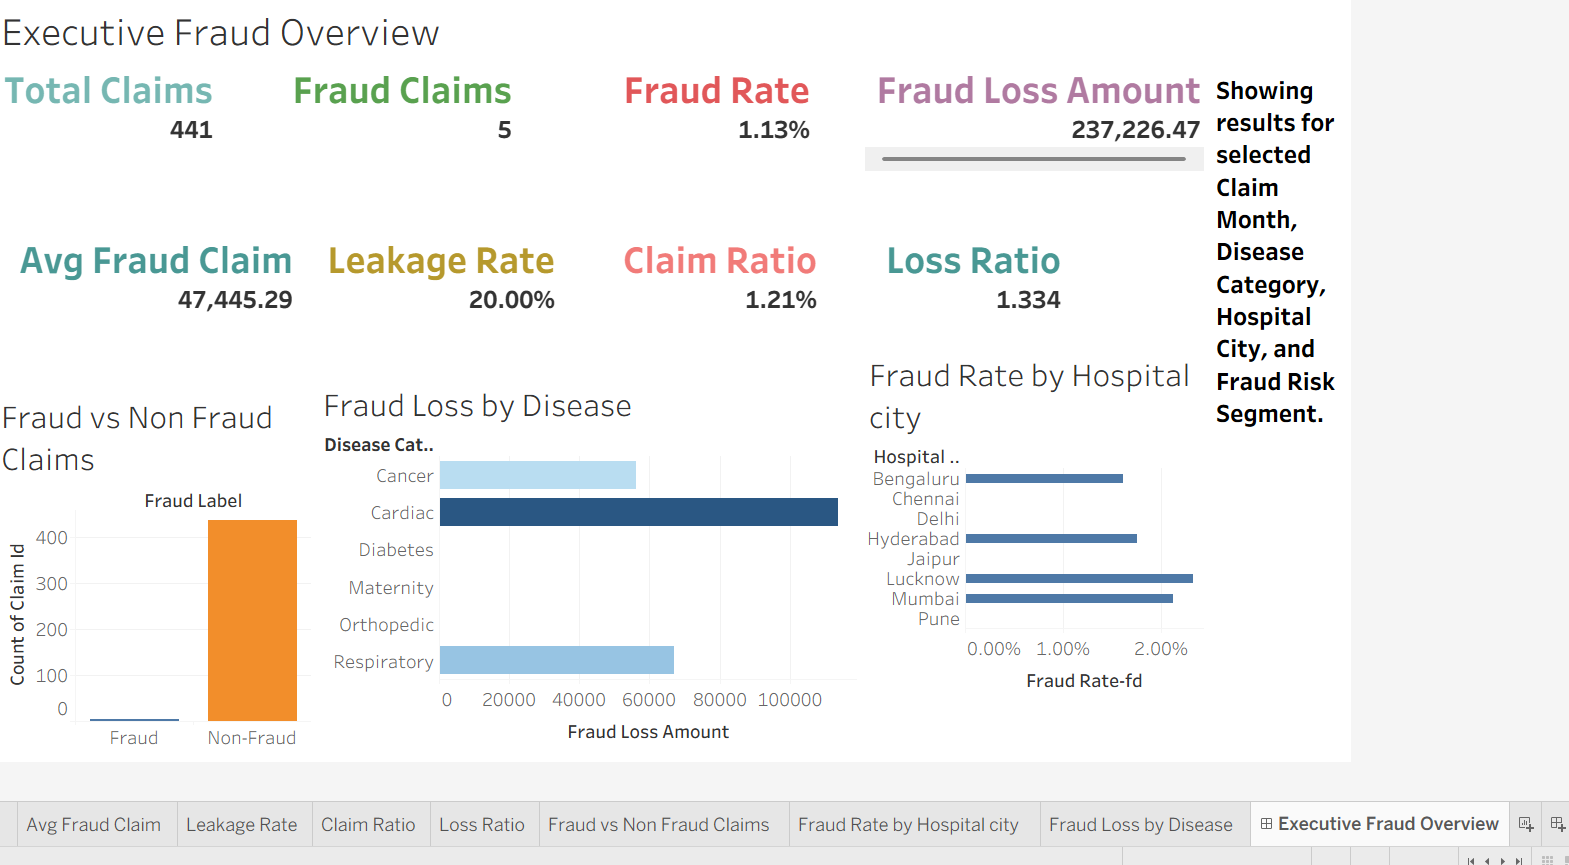

Layout of this report page (visuals, bound fields, positions):
{"tool":"tableau","page":{"name":"Executive Fraud Overview","canvas":[1366,768],"ordinal":0},"visuals":[{"type":"worksheet","title":"Total Claims","mark":"Automatic","box":[8,8,310,184]},{"type":"worksheet","title":"Fraud Claims","mark":"Automatic","box":[318,8,376,184]},{"type":"worksheet","title":"Fraud Rate","mark":"Automatic","box":[694,8,279,184]},{"type":"worksheet","title":"Fraud Loss Amount","mark":"Automatic","box":[973,8,385,184]},{"type":"worksheet","title":"Avg Fraud Claim","mark":"Automatic","box":[8,192,357.3,170]},{"type":"worksheet","title":"Leakage Rate","mark":"Automatic","box":[365.4,192,314.3,157]},{"type":"worksheet","title":"Claim Ratio","mark":"Automatic","box":[679.7,192,293.3,157]},{"type":"worksheet","title":"Loss Ratio","mark":"Automatic","box":[973,192,385,125]},{"type":"worksheet","title":"Fraud Rate by Hospital city","mark":"Bar","rows":["hospital_city"],"cols":["Calculation_1832063180660744"],"box":[973,317,385,443]},{"type":"worksheet","title":"Fraud Loss by Disease","mark":"Automatic","rows":["disease_category"],"cols":["fraud_loss_amount"],"box":[365.4,349,607.7,411]},{"type":"worksheet","title":"Fraud vs Non Fraud Claims","mark":"Automatic","rows":["claim_id"],"cols":["Calculation_1832063237885966"],"box":[8,362,357.3,398]}]}

Visuals, with their boxes on the page's 1366x768 design canvas (x1, y1, x2, y2). These are canvas units, not pixel positions in the 1569x865 screenshot, which may show the page scaled, cropped or inside an application window:
"Total Claims" worksheet: <box>8,8,318,192</box>
"Fraud Claims" worksheet: <box>318,8,694,192</box>
"Fraud Rate" worksheet: <box>694,8,973,192</box>
"Fraud Loss Amount" worksheet: <box>973,8,1358,192</box>
"Avg Fraud Claim" worksheet: <box>8,192,365,362</box>
"Leakage Rate" worksheet: <box>365,192,680,349</box>
"Claim Ratio" worksheet: <box>680,192,973,349</box>
"Loss Ratio" worksheet: <box>973,192,1358,317</box>
"Fraud Rate by Hospital city" worksheet (Bar marks): <box>973,317,1358,760</box>
"Fraud Loss by Disease" worksheet: <box>365,349,973,760</box>
"Fraud vs Non Fraud Claims" worksheet: <box>8,362,365,760</box>
